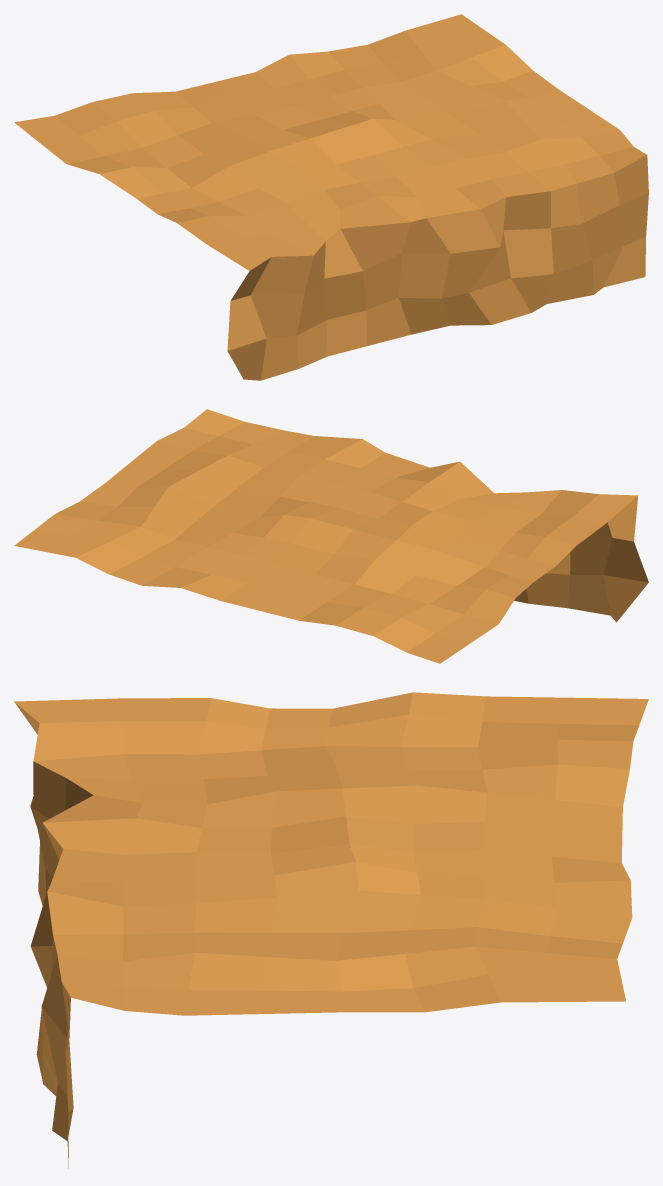
The model's file is sandGroundNew.fbx.
3 renders of one model, top to bottom at view 1: azimuth 30°, elevation 25°; view 2: azimuth 150°, elevation 25°; view 3: azimuth 270°, elevation 25°, orthographic. The views are drawn at different scales.
Parts seen in each view (by area): view 1: SandGround; view 2: SandGround; view 3: SandGround.
Part boxes in pixels (<box>): SandGround: <box>14,14,648,380</box>; SandGround: <box>14,409,648,663</box>; SandGround: <box>14,692,648,1168</box>.
Bounding box in the file's own units: 64.59 × 54.24 × 17.74.
